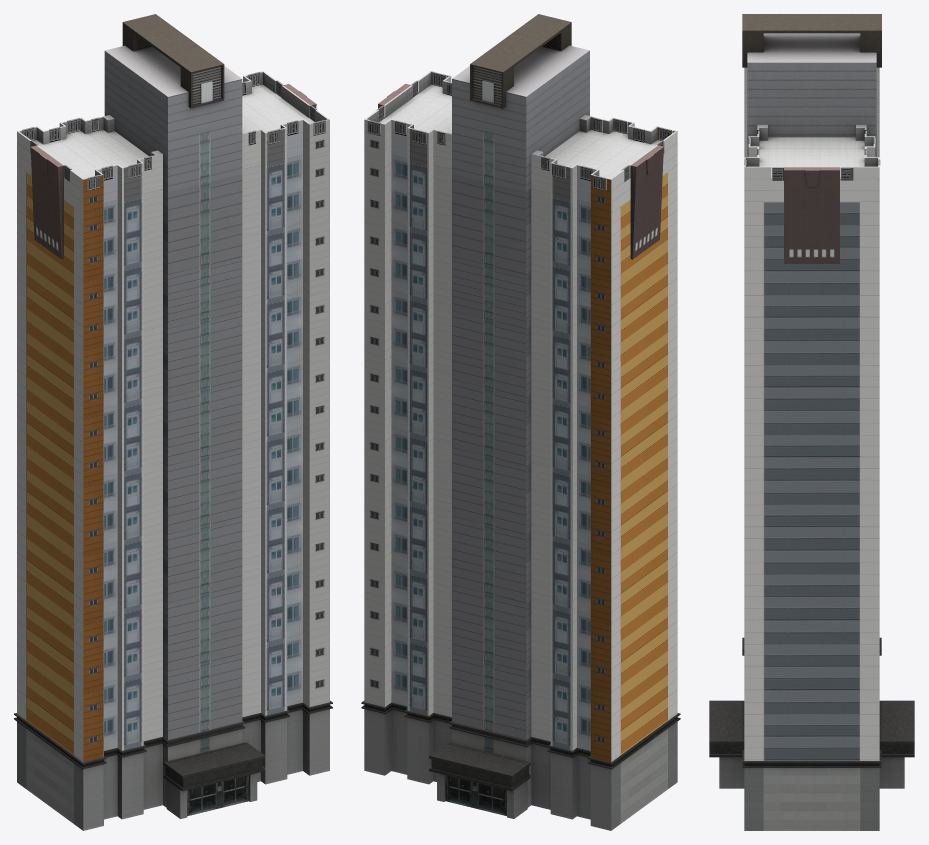
File: apartment_BUILDING.gltf
The picture shows the model from 3 angles, left to right: view 1: azimuth 30°, elevation 25°; view 2: azimuth 150°, elevation 25°; view 3: azimuth 270°, elevation 25°; orthographic projection.
Parts seen in each view (by area): view 1: outwall, inwall, steel_A_png; view 2: outwall, inwall, steel_A_png; view 3: outwall, inwall, steel_A_png.
Boxes of the visible parts, box(x1,y1,x2,y2) form: outwall: box(17, 71, 329, 830); inwall: box(14, 14, 332, 818); steel_A_png: box(22, 72, 325, 190); outwall: box(364, 71, 677, 830); inwall: box(361, 14, 680, 818); steel_A_png: box(367, 72, 671, 190); outwall: box(744, 67, 879, 830); inwall: box(709, 14, 914, 788); steel_A_png: box(745, 130, 880, 180).
Size of the model in its own units: 176 by 473 by 118.
Materials: 3 (3 with a texture image).
